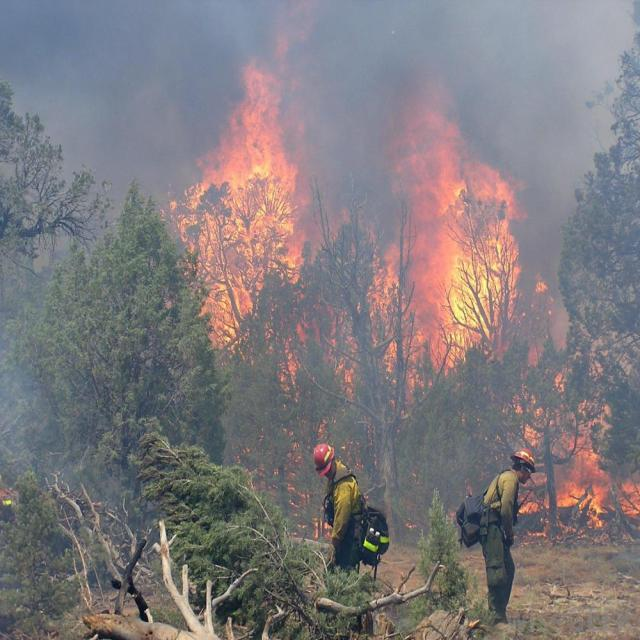Fire: (181, 73, 507, 364), (516, 401, 640, 532)
Smoke: (63, 19, 637, 231)
